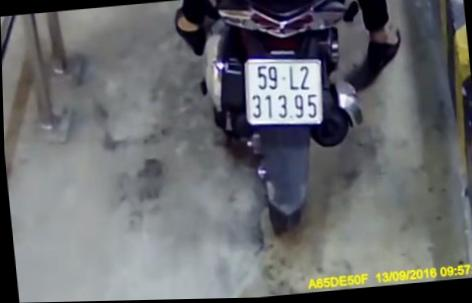LP: (238, 49, 331, 131)
